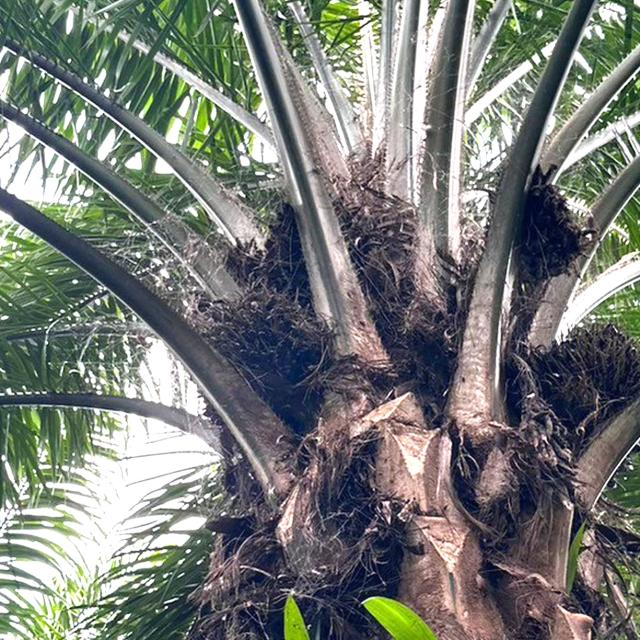unripe: (196, 296, 353, 417), (522, 314, 640, 433)
